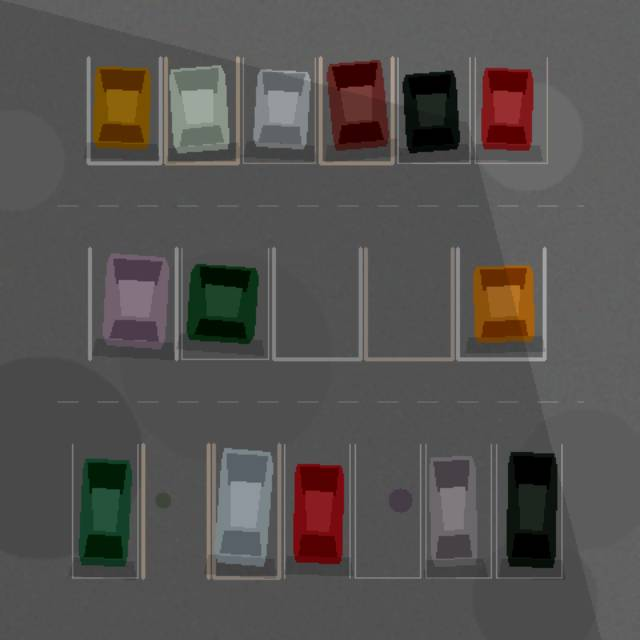space-empty: (273, 248, 360, 359), (365, 248, 452, 359), (143, 444, 208, 577), (355, 444, 420, 577)
space-occupied: (89, 248, 176, 359), (181, 248, 268, 359), (457, 248, 544, 359), (213, 444, 279, 577), (425, 444, 491, 577), (72, 444, 137, 577), (284, 444, 349, 577), (496, 444, 561, 577), (88, 57, 160, 163), (165, 57, 237, 163), (243, 57, 315, 163), (320, 57, 392, 163), (397, 57, 469, 163), (475, 57, 547, 163)
